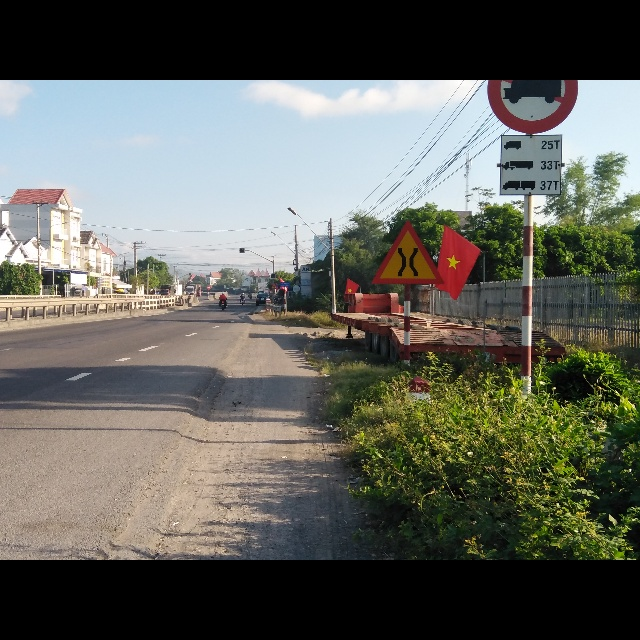Cầu hẹp: (371, 220, 443, 287)
